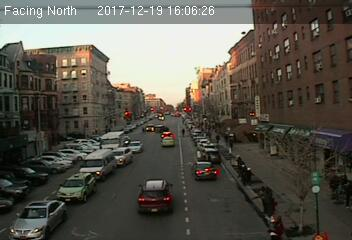car: (10, 199, 67, 240), (135, 179, 175, 215), (56, 173, 96, 201), (193, 162, 217, 180), (111, 147, 135, 165), (202, 147, 220, 161), (128, 141, 143, 153), (162, 136, 174, 147)
pedestrian: (245, 166, 253, 186)
truck: (79, 149, 115, 181), (100, 131, 125, 147)
